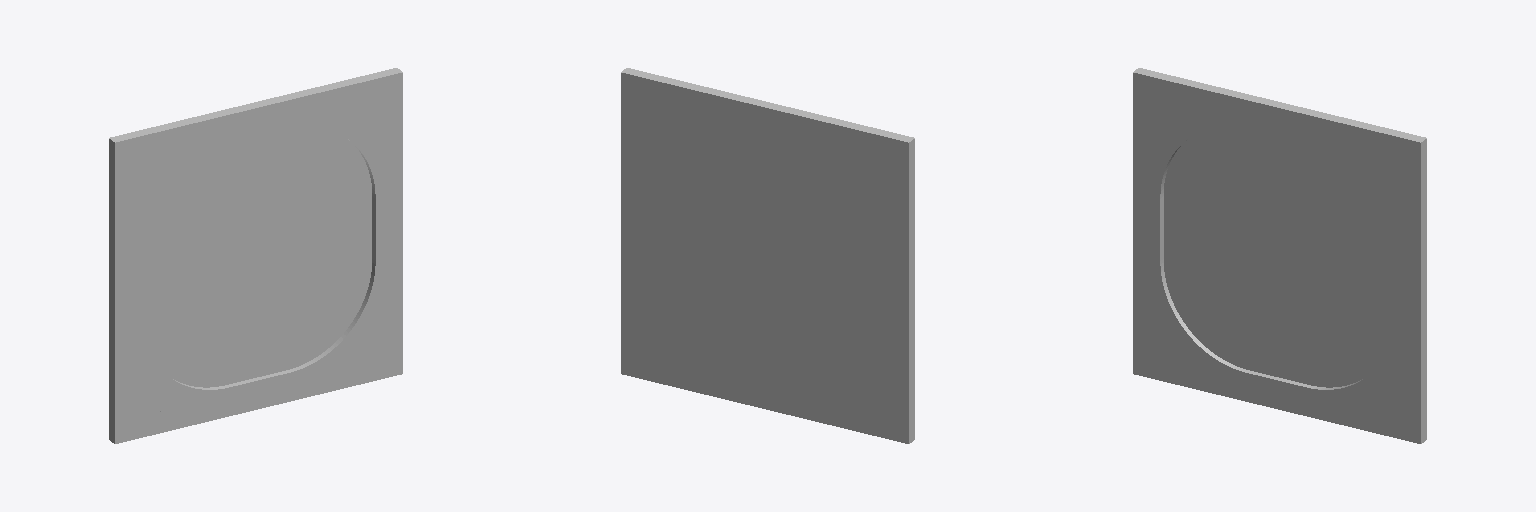
The model's file is painting-b.obj.
3 renders of one model, left to right at view 1: azimuth 30°, elevation 25°; view 2: azimuth 150°, elevation 25°; view 3: azimuth 330°, elevation 25°, orthographic.
Parts seen in each view (by area): view 1: canvas, frame-4, frame-2, frame-1, frame-3, frame-5, frame-6; view 2: canvas, frame-4, frame-1, frame-2, frame-5, frame-3; view 3: canvas, frame-4, frame-2, frame-1, frame-3, frame-5, frame-6.
Boxes of the visible parts, box(x1,y1,x2,y2) form: canvas: box(143, 127, 371, 387); frame-4: box(109, 91, 402, 425); frame-2: box(109, 80, 402, 435); frame-1: box(109, 68, 395, 433); frame-3: box(109, 68, 402, 443); frame-5: box(110, 73, 402, 443); frame-6: box(134, 97, 383, 414); canvas: box(648, 108, 880, 407); frame-4: box(621, 89, 914, 425); frame-1: box(621, 71, 910, 443); frame-2: box(621, 78, 914, 435); frame-5: box(621, 73, 914, 442); frame-3: box(623, 68, 914, 443); canvas: box(1164, 127, 1392, 387); frame-4: box(1133, 89, 1426, 425); frame-2: box(1133, 78, 1426, 435); frame-1: box(1139, 68, 1426, 433); frame-3: box(1133, 68, 1426, 443); frame-5: box(1133, 73, 1426, 443); frame-6: box(1152, 97, 1400, 417).
Bounding box in the file's own units: 260 × 260 × 10.